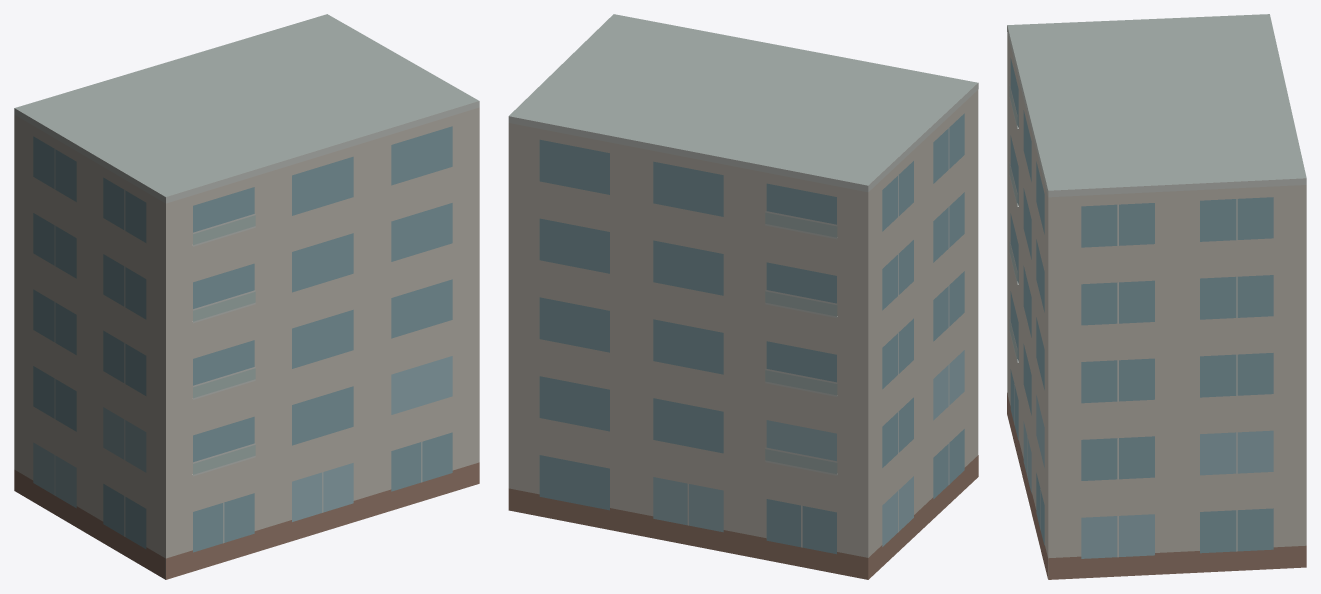
Rendered from survey-upis-33002251.glb.
3 renders of one model, left to right at view 1: azimuth 30°, elevation 25°; view 2: azimuth 150°, elevation 25°; view 3: azimuth 270°, elevation 25°, orthographic. The views are drawn at different scales.
Parts seen in each view (by area): view 1: survey-upis-33002251.tmp; view 2: survey-upis-33002251.tmp; view 3: survey-upis-33002251.tmp.
Boxes of the visible parts, x1,y1,x2,y2 form: survey-upis-33002251.tmp: [14, 14, 479, 579]; survey-upis-33002251.tmp: [508, 14, 978, 579]; survey-upis-33002251.tmp: [1007, 14, 1306, 579].
Size of the model in its own units: 14.03 by 14.4 by 10.06.
